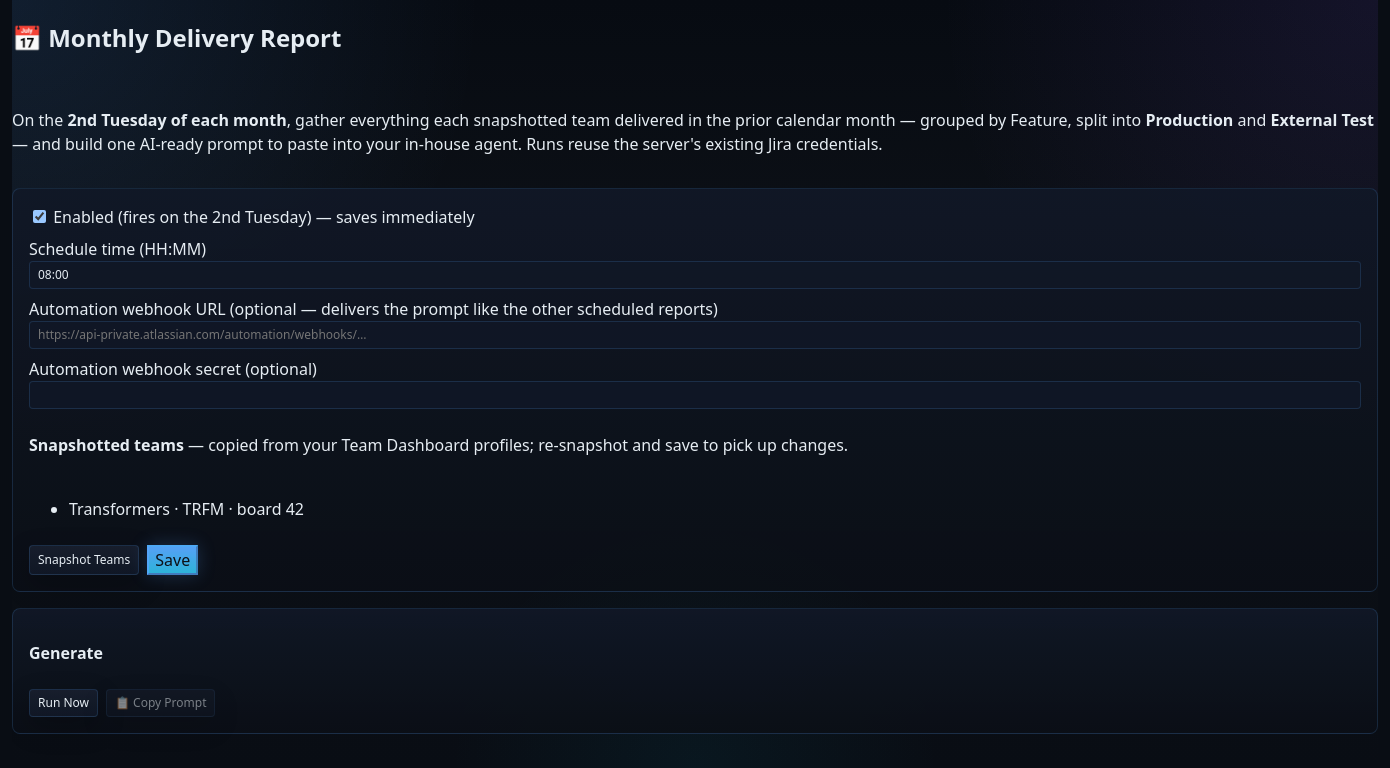
Test: MonthlyDeliveryPanel — configuration & team snapshot (US1) › saves the Enabled toggle IMMEDIATELY — the master switch must never silently discard itself
Click the checkbox named "Enable monthly schedule" at [40, 216], box [33,210,46,223]
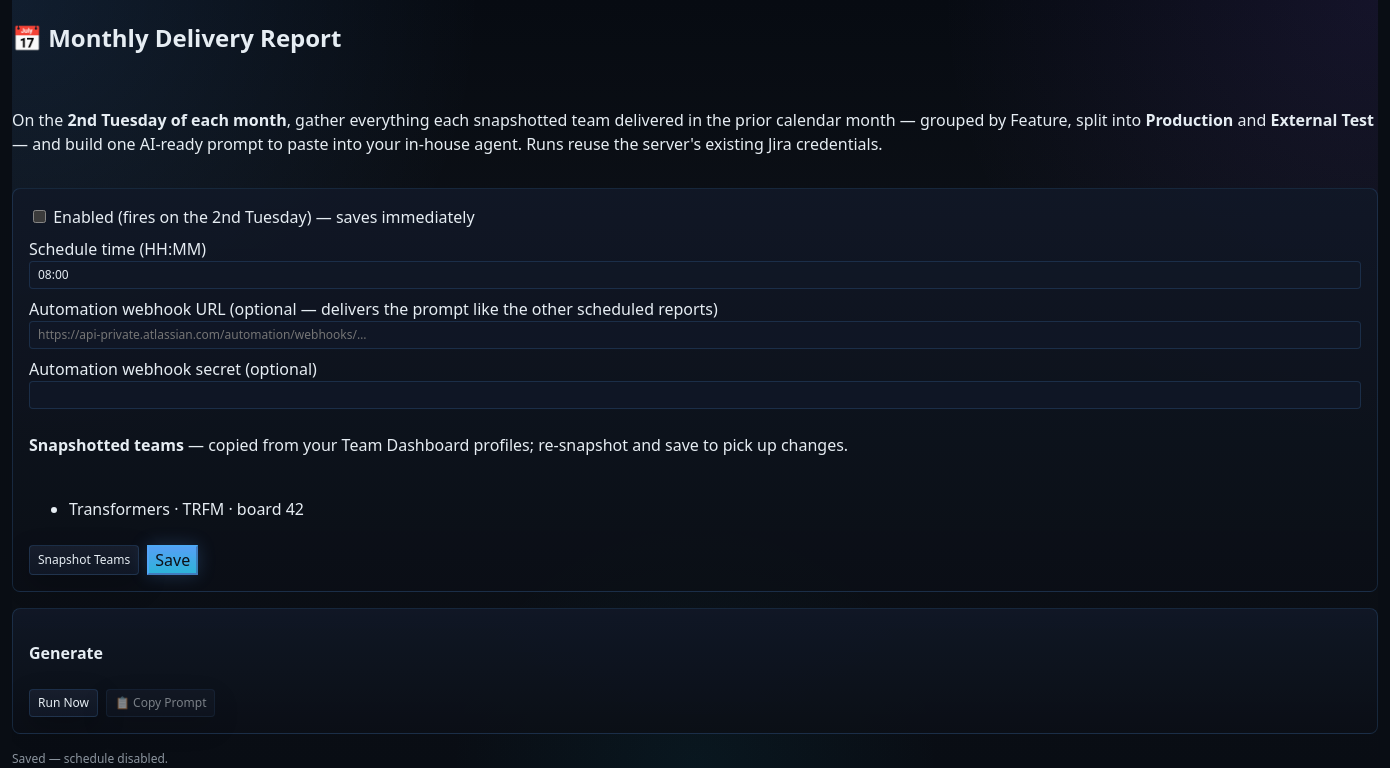
expect the message shows "Saved — schedule disabled": met, box [12,750,168,767]
